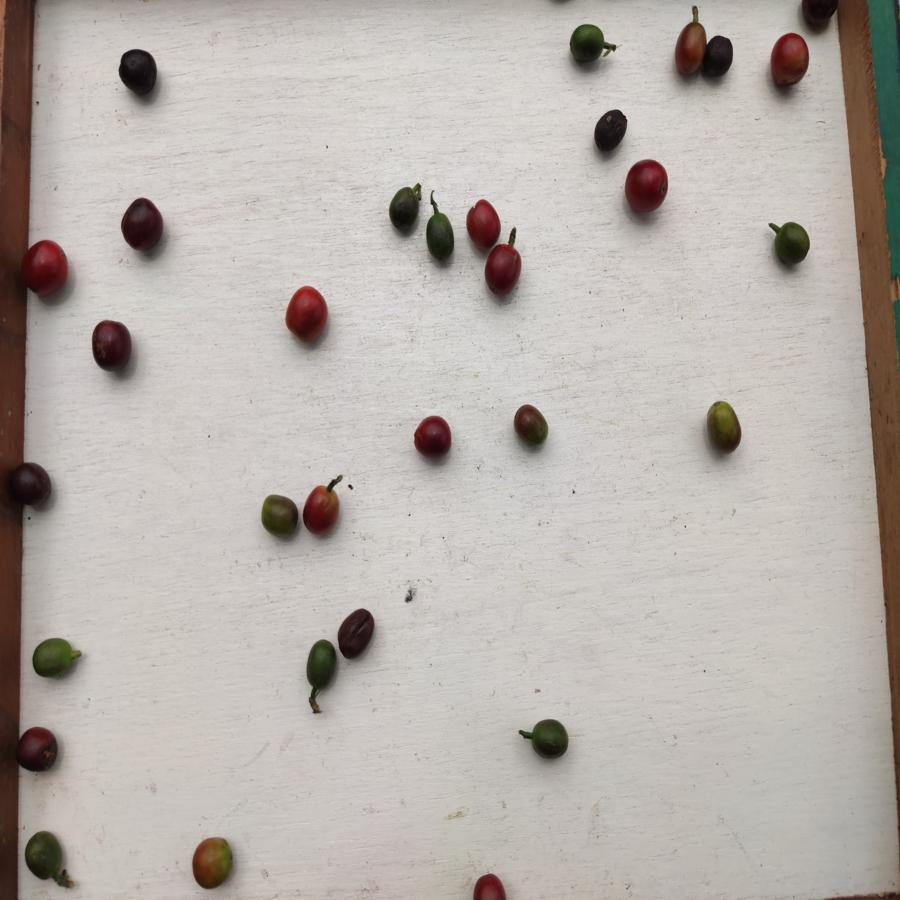Inmaduro: (28, 634, 78, 678), (22, 829, 63, 881), (567, 19, 606, 71), (773, 219, 812, 270), (423, 210, 458, 263), (257, 494, 300, 537), (512, 404, 551, 449), (304, 638, 339, 687), (528, 719, 568, 760), (385, 187, 421, 230)
Maduro: (19, 238, 72, 296), (622, 154, 669, 213), (284, 285, 328, 343), (466, 196, 504, 254), (485, 243, 521, 297), (301, 486, 340, 534), (464, 873, 507, 900)
Pinton: (766, 31, 811, 92), (191, 837, 235, 889), (670, 19, 706, 82), (705, 402, 742, 453)
Sobremaduro: (12, 726, 64, 776), (88, 320, 136, 374), (119, 196, 165, 250), (10, 458, 54, 508), (115, 48, 158, 97), (335, 608, 377, 658), (409, 419, 455, 458), (704, 31, 734, 83), (593, 110, 627, 153)
